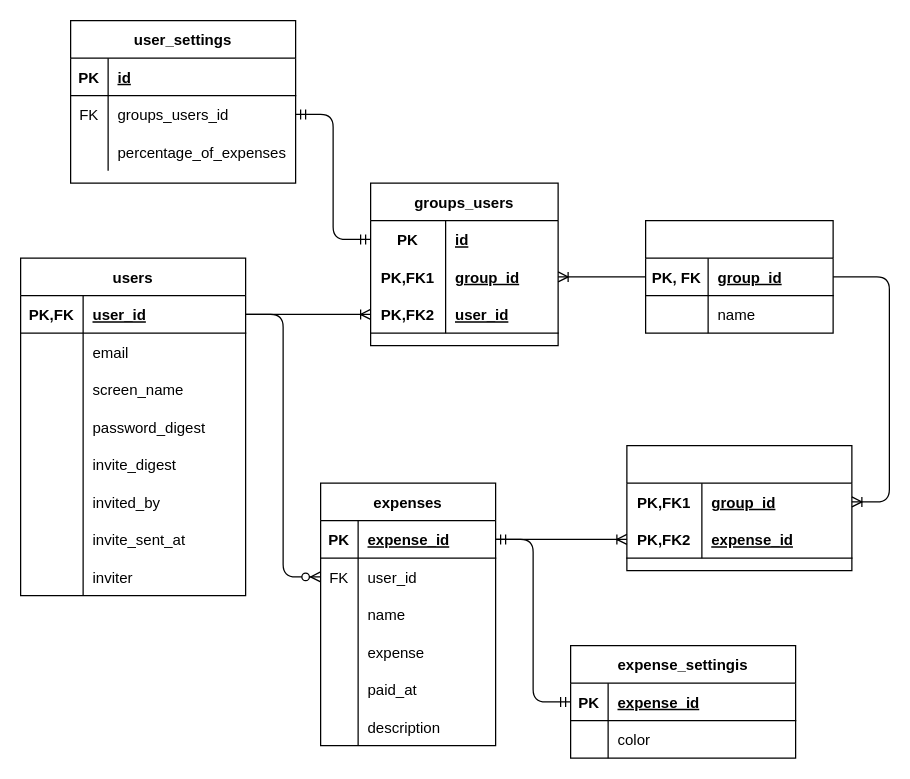
The diagram is 910 pixels wide and 779 high, and some of its shapes have lost their labels. The box of each missing label's shape, as (x1, y1, x2, y2) in pixels:
groups: (644, 219, 833, 333)
groups_expenses: (626, 444, 852, 571)
